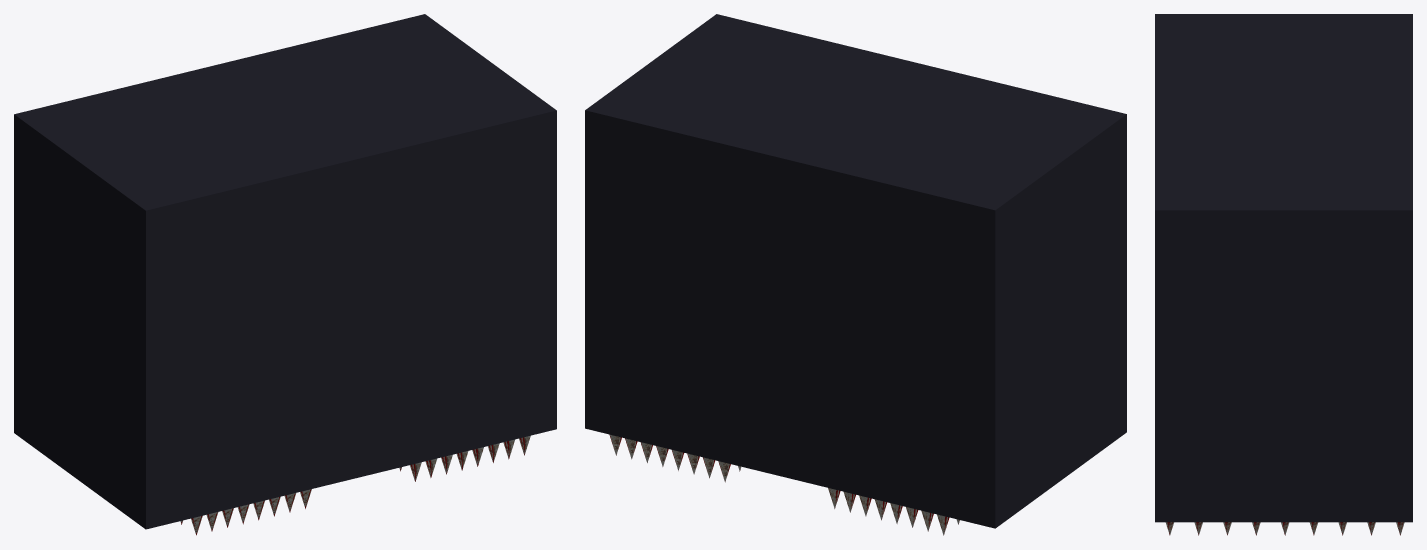
File: spikes.obj
3 views of the same model, side by side, from view 1: azimuth 30°, elevation 25°; view 2: azimuth 150°, elevation 25°; view 3: azimuth 270°, elevation 25° (orthographic). The views are drawn at different scales.
Visible parts, largest first — view 1: spikes_Cube.005; view 2: spikes_Cube.005; view 3: spikes_Cube.005.
Part boxes in pixels (x1,y1,x2,y2): spikes_Cube.005: (14, 14, 556, 535); spikes_Cube.005: (585, 14, 1126, 535); spikes_Cube.005: (1155, 14, 1412, 535).
Bounding box in the file's own units: 25.64 × 20.57 × 14.23.
1 material, 1 textured.
